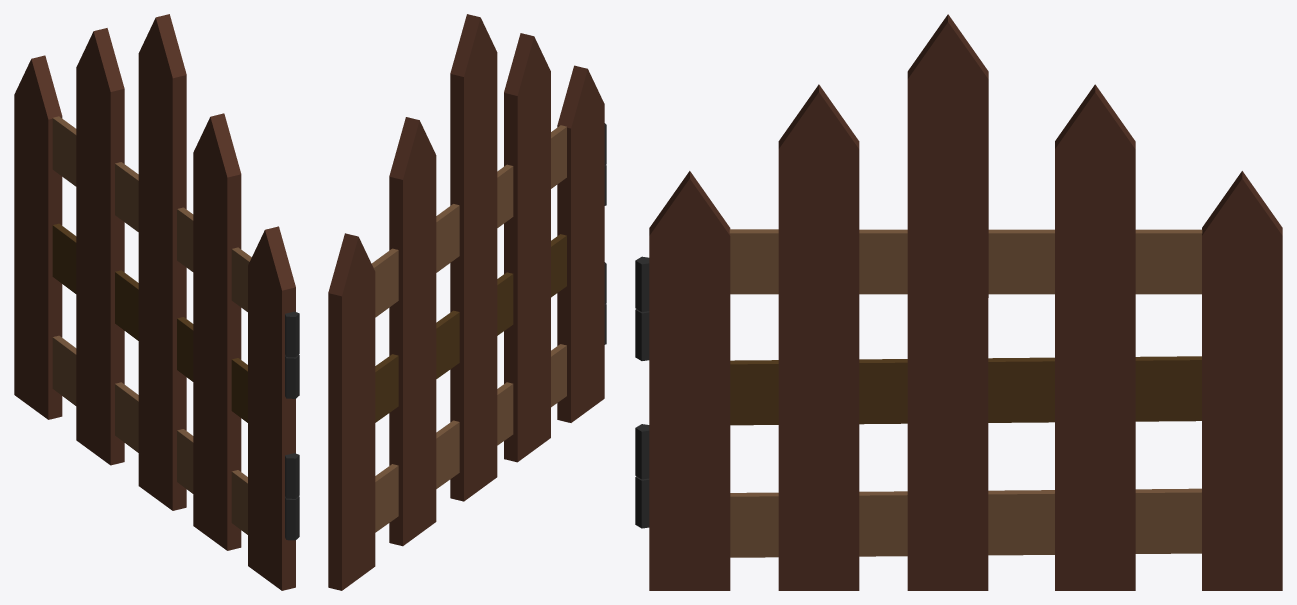
Rendered from FencePicketDoor_01.glb.
3 views of the same model, side by side, from view 1: azimuth 30°, elevation 25°; view 2: azimuth 150°, elevation 25°; view 3: azimuth 270°, elevation 25° (orthographic). The views are drawn at different scales.
Visible parts, largest first — view 1: FencePicketDoor_01; view 2: FencePicketDoor_01; view 3: FencePicketDoor_01.
Boxes of the visible parts, box(x1,y1,x2,y2) form: FencePicketDoor_01: box(14, 14, 299, 590); FencePicketDoor_01: box(328, 14, 606, 590); FencePicketDoor_01: box(635, 14, 1282, 590).
Size of what is drawn, in the model's own units: 0.0551 by 1.76 by 1.81.
1 material, 1 textured.
